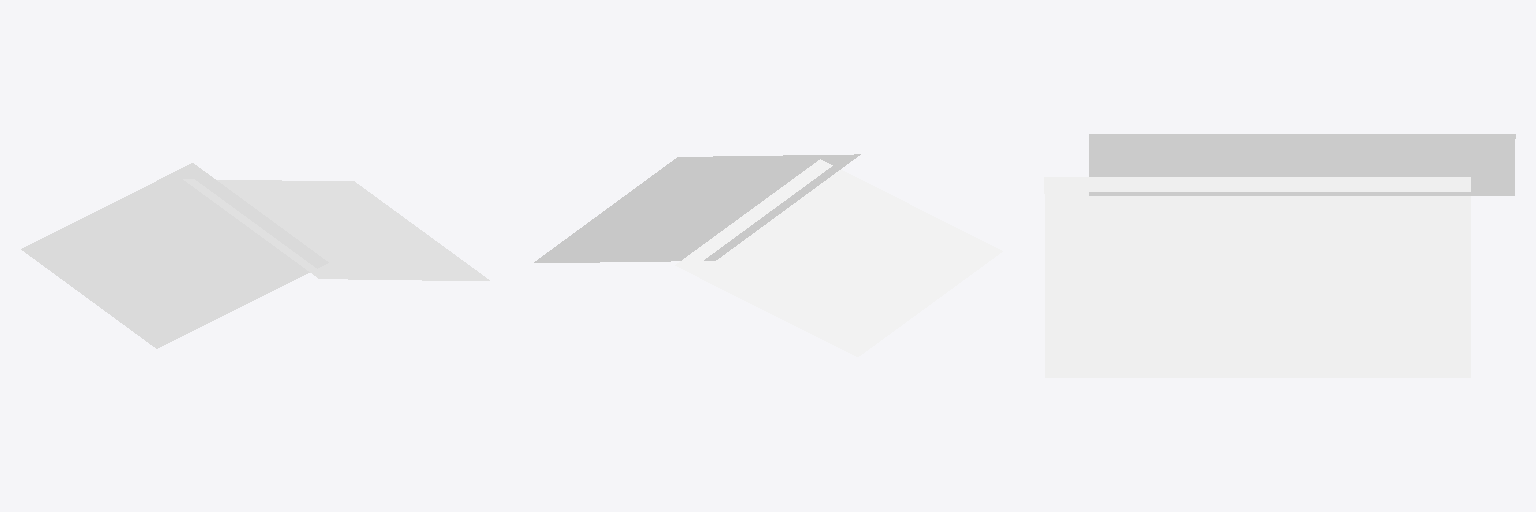
URDF robot description (roof):
<?xml version="0.0" ?>
<robot name="roof">

  <link name="roofLink">
    <contact>
        <lateral_friction value="1"/>
    </contact>
      <inertial>
        <origin rpy="1 0 0" xyz="2 1 0"/>
        <mass value=".0"/>
        <inertia ixx="0" ixy="0" ixz="0" iyy="0" iyz="0" izz="0"/>
      </inertial>
      <visual>
        <origin rpy="2.9 0 1.57" xyz="-2 -4 3.4"/>
        <geometry>
          <mesh filename="toit/toit.obj" scale="4 3 2"/> 
        </geometry>
        <material name="white">
          <color rgba="1 1 1 1"/>
        </material>
      </visual>
      <collision>
        <origin rpy="1.57 0 0" xyz="0 0 0"/>
        <geometry>
          <box size="0.1 0.1 0.1"/>
        </geometry>
      </collision>
  </link>

  <link name="roofLink1">
    <contact>
        <lateral_friction value="1"/>
    </contact>
      <inertial>
        <origin rpy="1 0 0" xyz="2 1 0"/>
        <mass value=".0"/>
        <inertia ixx="0" ixy="0" ixz="0" iyy="0" iyz="0" izz="0"/>
      </inertial>
      <visual>
        <origin rpy="2.9 0 -1.57" xyz="3 2 3.4"/>
        <geometry>
          <mesh filename="toit/toit.obj" scale="4 3 2"/> 
        </geometry>
        <material name="white">
          <color rgba="1 1 1 1"/>
        </material>
      </visual>
      <collision>
        <origin rpy="1.57 0 0" xyz="0 0 0"/>
        <geometry>
          <box size="0.1 0.1 0.1"/>
        </geometry>
      </collision>
  </link>

  <joint name="jfixed_stuff" type="fixed">
    <parent link="roofLink"/>
    <child link="roofLink1"/>
    <origin rpy="0 0 0" xyz="5 0 0"/>
  </joint>

  <link name="wallLink">
    <contact>
        <lateral_friction value="1"/>
    </contact>
      <inertial>
        <origin rpy="0 0 0" xyz="2 1 0"/>
        <mass value=".0"/>
        <inertia ixx="0" ixy="0" ixz="0" iyy="0" iyz="0" izz="0"/>
      </inertial>
      <visual>
        <origin rpy="1.57 0 0" xyz="0 0 6"/>
        <geometry>
          <mesh filename="mur/wall.obj" scale="6 2 2"/> 
        </geometry>
        <material name="white">
          <color rgba="1 1 1 1"/>
        </material>
      </visual>
      <collision>
        <origin rpy="1.57 0 0" xyz="0 0 0"/>
        <geometry>
          <box size="0.1 0.1 0.1"/>
        </geometry>
      </collision>
  </link>

    <joint name="jfixed_stuff2" type="fixed">
    <parent link="roofLink"/>
    <child link="wallLink"/>
    <origin rpy="0 0 0" xyz="-2 8 0"/>
  </joint>

  <link name="wallLink2">
    <contact>
        <lateral_friction value="1"/>
    </contact>
      <inertial>
        <origin rpy="0 0 0" xyz="1 1 0"/>
        <mass value=".0"/>
        <inertia ixx="0" ixy="0" ixz="0" iyy="0" iyz="0" izz="0"/>
      </inertial>
      <visual>
        <origin rpy="1.57 0 0" xyz="-2 0 6"/>
        <geometry>
          <mesh filename="mur/wall.obj" scale="6 2 2"/> 
        </geometry>
        <material name="white">
          <color rgba="1 1 1 1"/>
        </material>
      </visual>
      <collision>
        <origin rpy="1.57 0 0" xyz="0 0 0"/>
        <geometry>
          <box size="0.1 0.1 0.1"/>
        </geometry>
      </collision>
  </link>

  <joint name="jfixed_stuff3" type="fixed">
    <parent link="roofLink"/>
    <child link="wallLink2"/>
    <origin rpy="0 0 3.14" xyz="6 -6 0"/>
  </joint>

</robot>

--- What the picture shows (computed from the rendered views, not written in the file) ---
The picture shows the robot from 3 angles, left to right: view 1: azimuth 30°, elevation 25°; view 2: azimuth 150°, elevation 25°; view 3: azimuth 270°, elevation 25°; orthographic projection.
Robot: roof — 4 links, 3 joints (3 fixed); root link roofLink; default pose: all joints at 0.
Links seen in each view (by area): view 1: roofLink, roofLink1; view 2: roofLink, roofLink1; view 3: roofLink1, roofLink.
Link boxes in pixels (x1,y1,x2,y2): roofLink: (21,163,328,348); roofLink1: (183,179,489,280); roofLink: (675,159,1002,356); roofLink1: (534,154,860,262); roofLink1: (1044,177,1470,377); roofLink: (1089,134,1515,195).
Size in the robot's own frame: 21.66 by 17.67 by 2.87 metres.
2 mesh visuals loaded from 2 distinct referenced files (1 OBJ); not drawn: 2 (reference not matched to a file when rendering).
